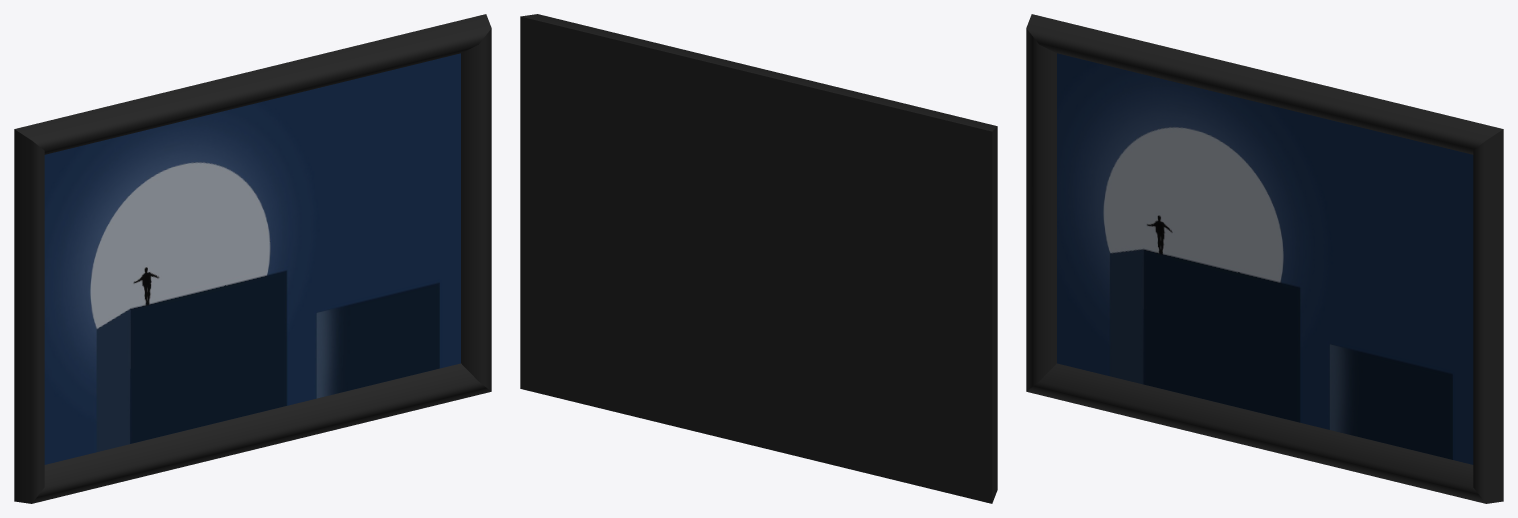
The model's file is picture_028.fbx.
The picture shows the model from 3 angles, left to right: view 1: azimuth 30°, elevation 25°; view 2: azimuth 150°, elevation 25°; view 3: azimuth 330°, elevation 25°; orthographic projection.
Visible parts, largest first — view 1: picture_028; view 2: picture_028; view 3: picture_028.
Boxes of the visible parts, <box> form: picture_028: <box>14,14,491,503</box>; picture_028: <box>520,14,997,503</box>; picture_028: <box>1026,14,1503,503</box>.
Size of the model in its own units: 55.18 by 2.3 by 41.6.
